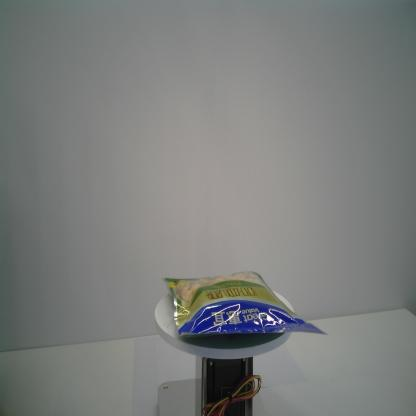Dried Fruit: (160, 268, 330, 342)
